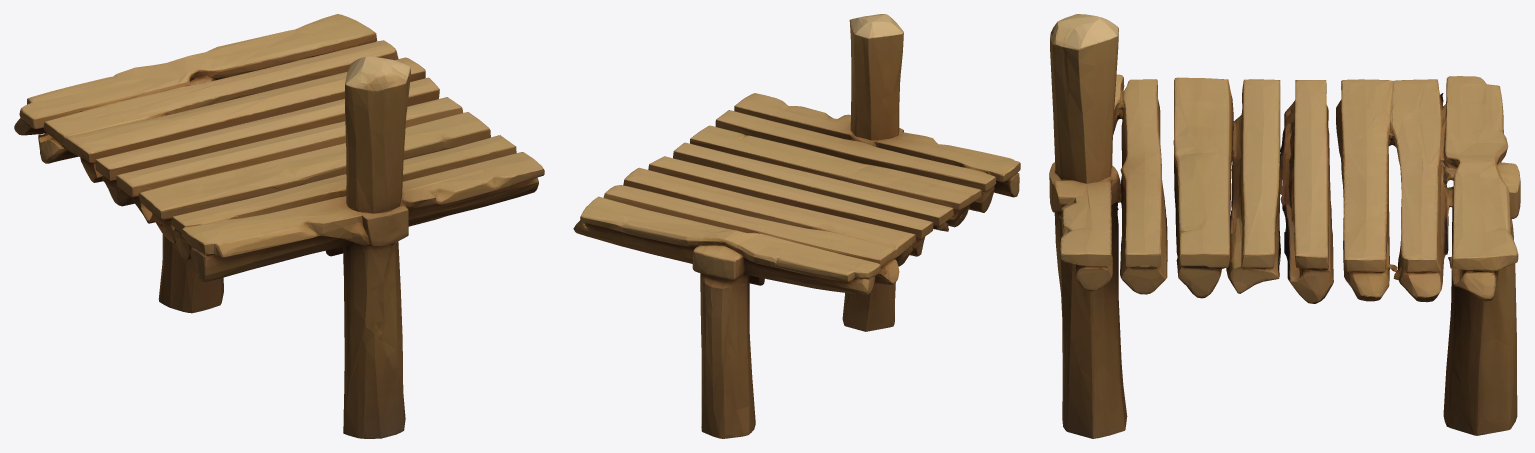
Rendered from wooden_platform.glb.
3 views of the same model, side by side, from view 1: azimuth 30°, elevation 25°; view 2: azimuth 150°, elevation 25°; view 3: azimuth 270°, elevation 25° (orthographic). The views are drawn at different scales.
Visible parts, largest first — view 1: world; view 2: world; view 3: world.
Part boxes in pixels (bbox=[...]): world: bbox=[14, 14, 544, 438]; world: bbox=[573, 14, 1020, 438]; world: bbox=[1049, 14, 1520, 438].
Size of the model in its own units: 0.9635 by 0.9404 by 0.9978.
1 material, 1 textured.
